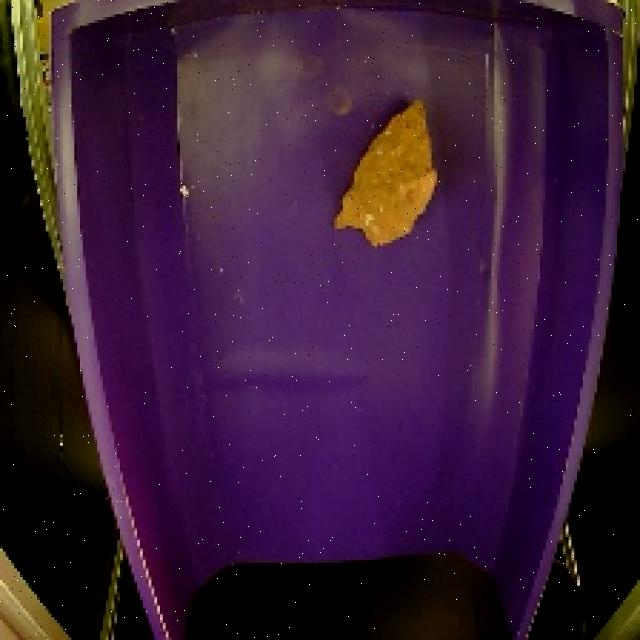brick: (325, 92, 448, 259)
